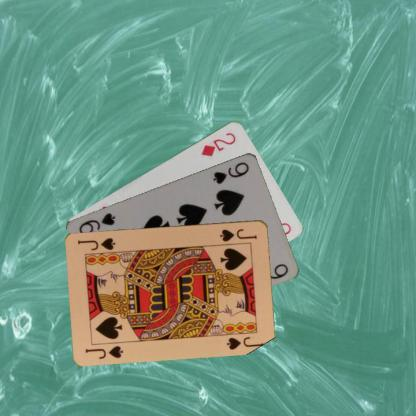2d: (199, 129, 237, 158)
9s: (210, 159, 251, 185)
Js: (83, 343, 125, 360), (218, 226, 258, 243)
